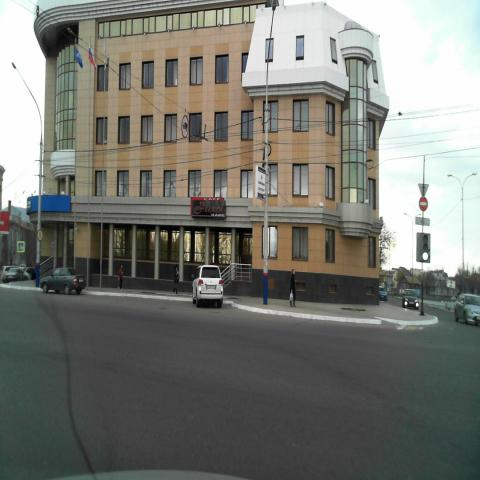3_4_1: (180, 114, 190, 139)
